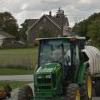Tractor: (27, 31, 100, 100)
